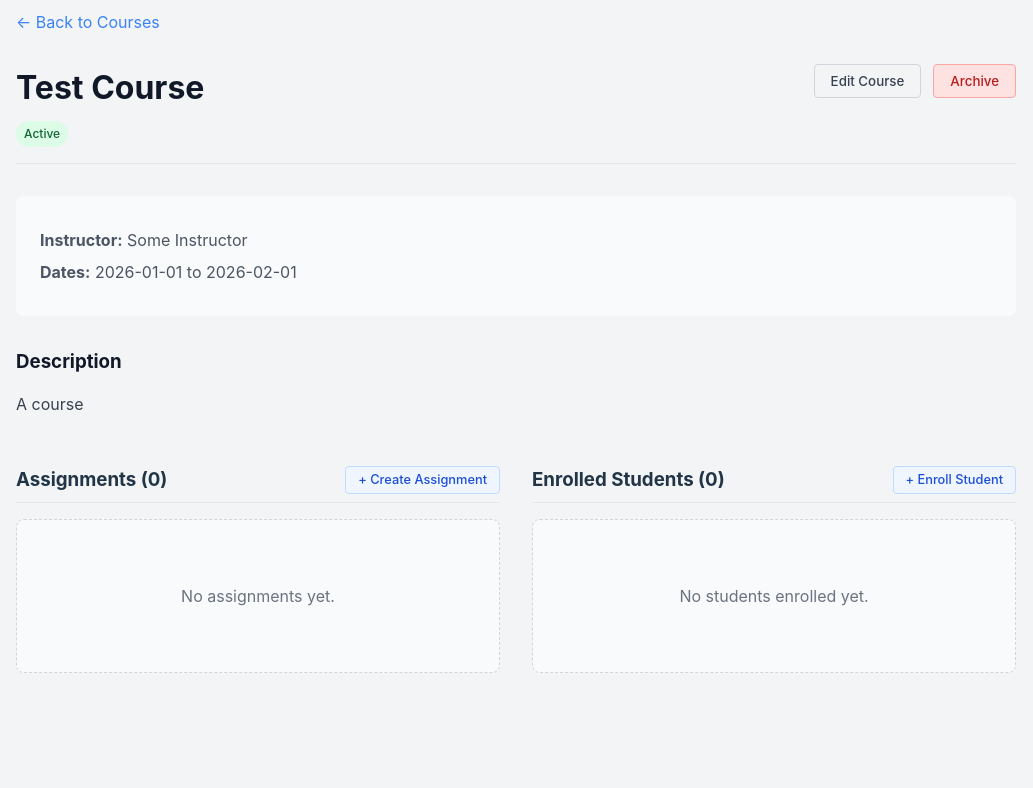
it: CourseDetail.vue — student enrollment search › disables Enroll until a search result is selected, then enables it
Click the button with class "enroll-toggle-btn" showing "+ Enroll Student". click: (954, 480)
box: x1=892 y1=466 x2=1016 y2=494
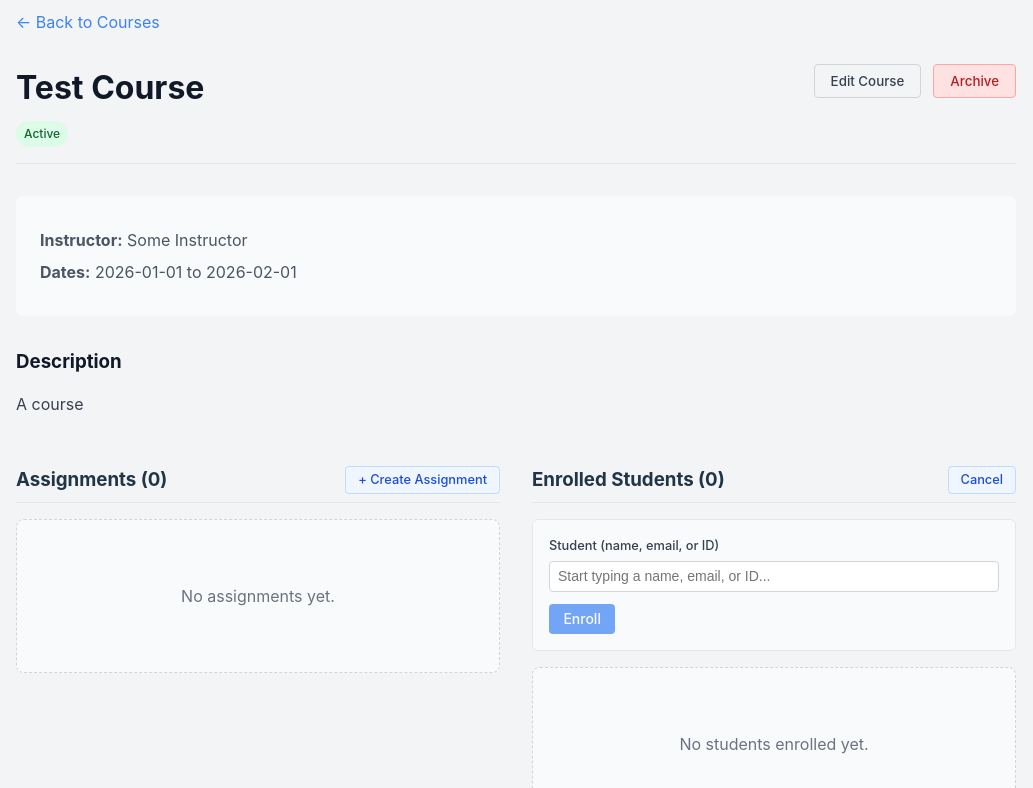
Check: the submit button is disabled, box x1=549 y1=604 x2=615 y2=634
Type "Alice" into the field with id "enroll-search". click: (774, 576)
box: x1=549 y1=561 x2=999 y2=592
Wait 300 ms
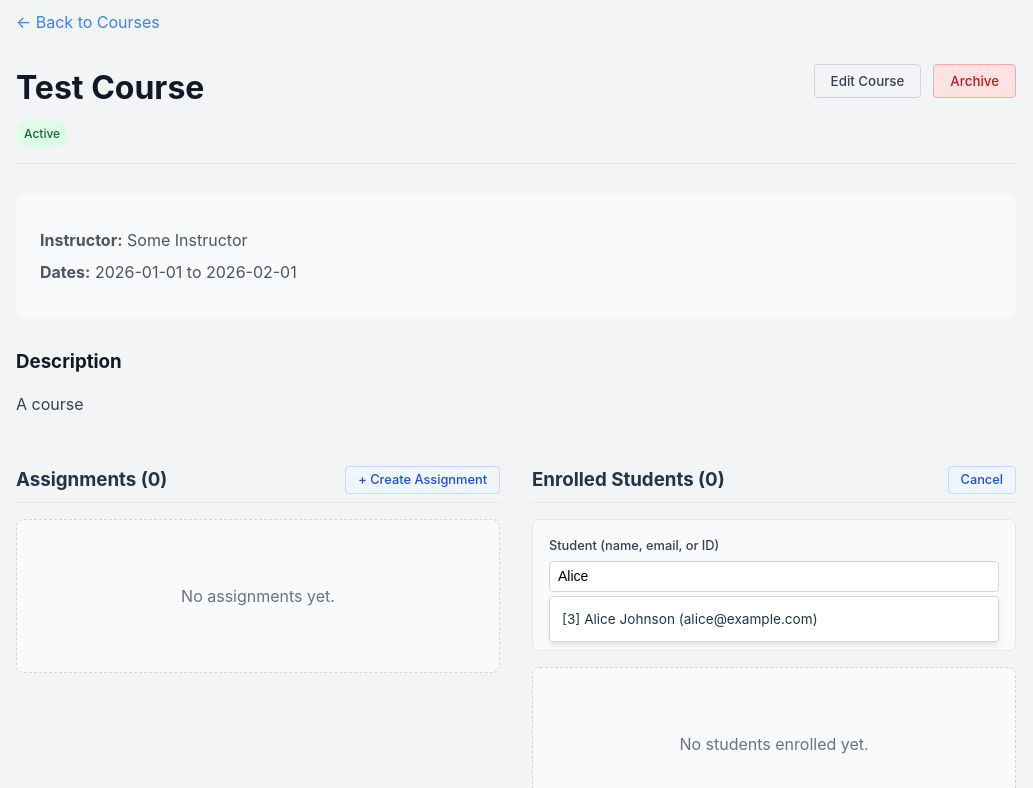
Click the list item with class "search-result-item". click: (690, 619)
box: x1=562 y1=611 x2=818 y2=627
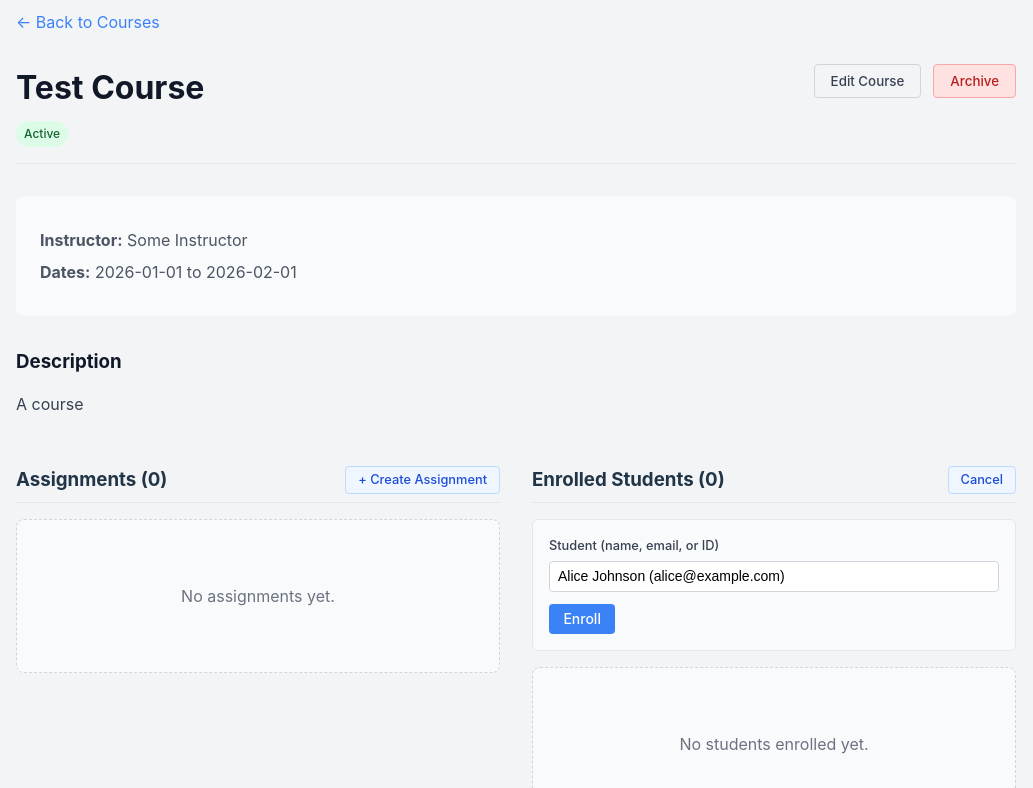
Check: the submit button is enabled, box x1=549 y1=604 x2=615 y2=634
